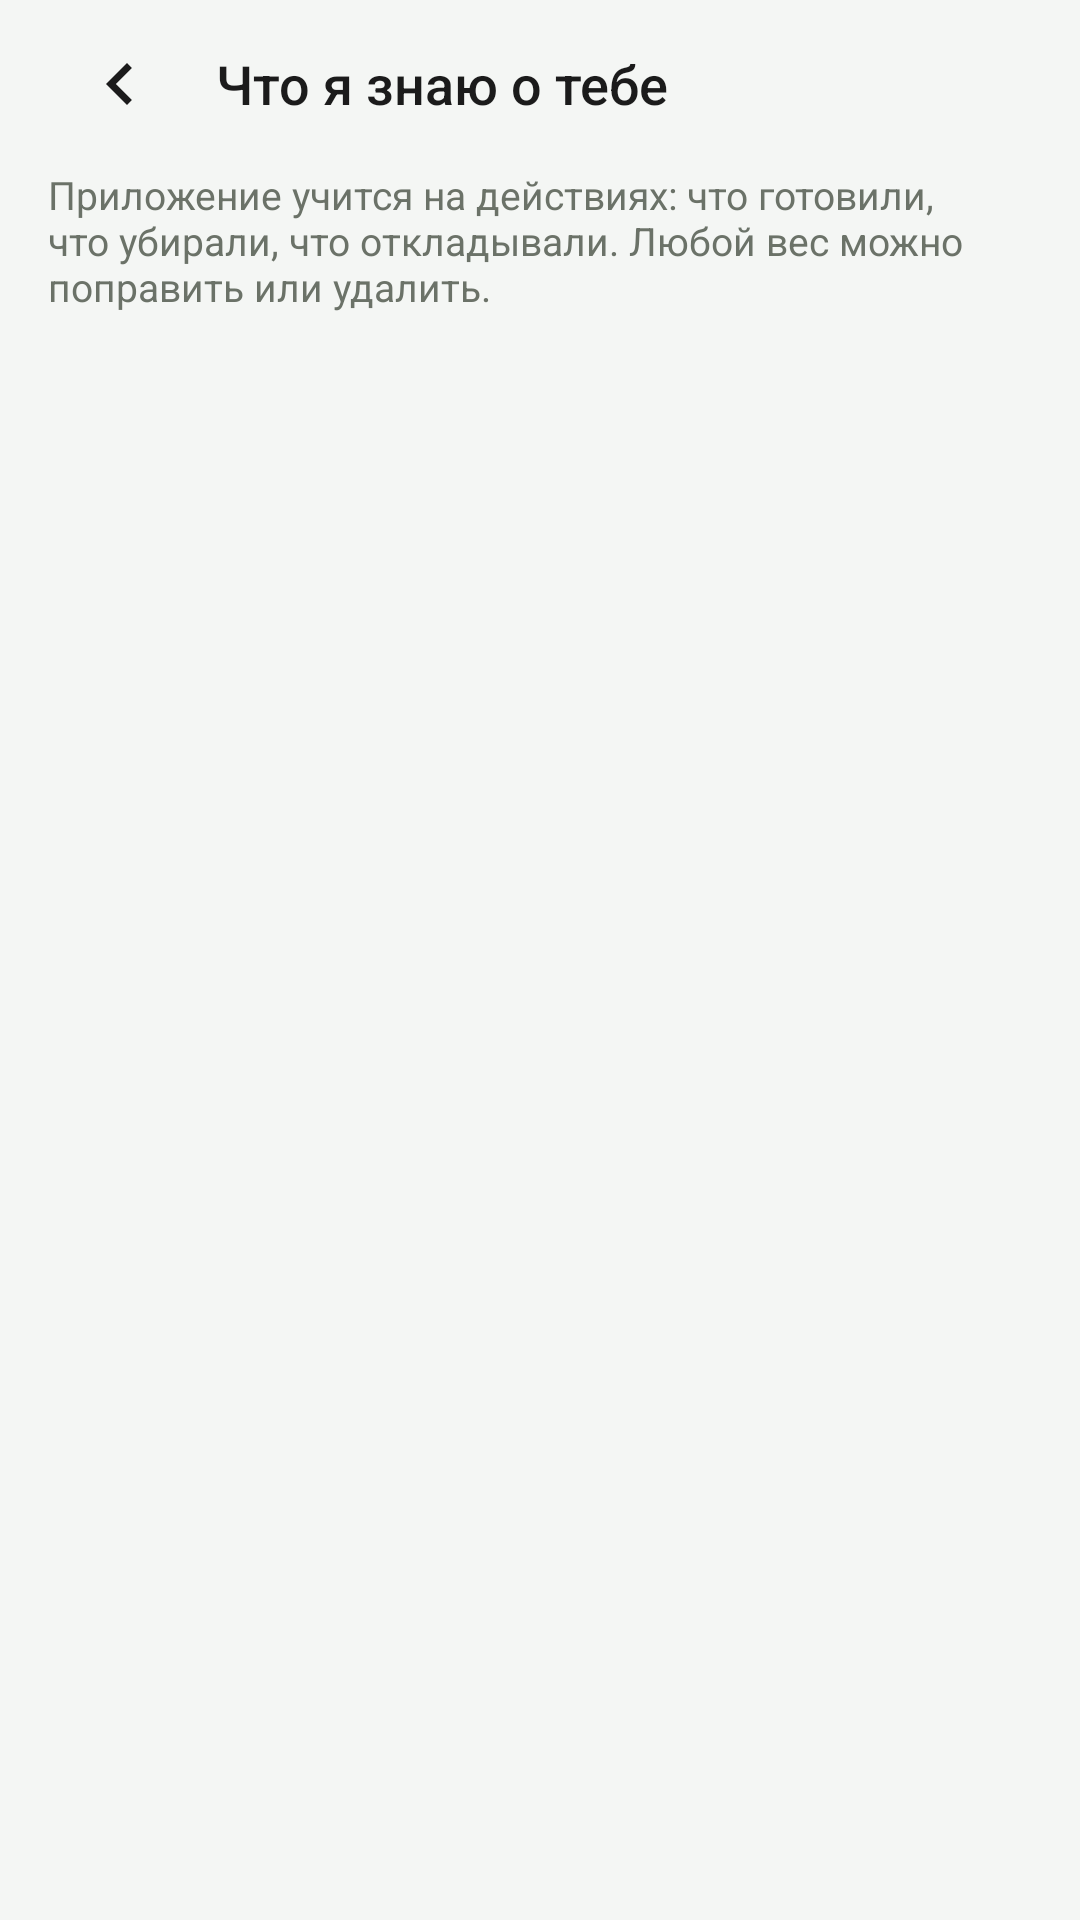

Locate icon controls on the screen. Image size 1080px×1920px, boxes as (x1, y1, x2, y2).
Назад: (106, 63, 132, 105)
